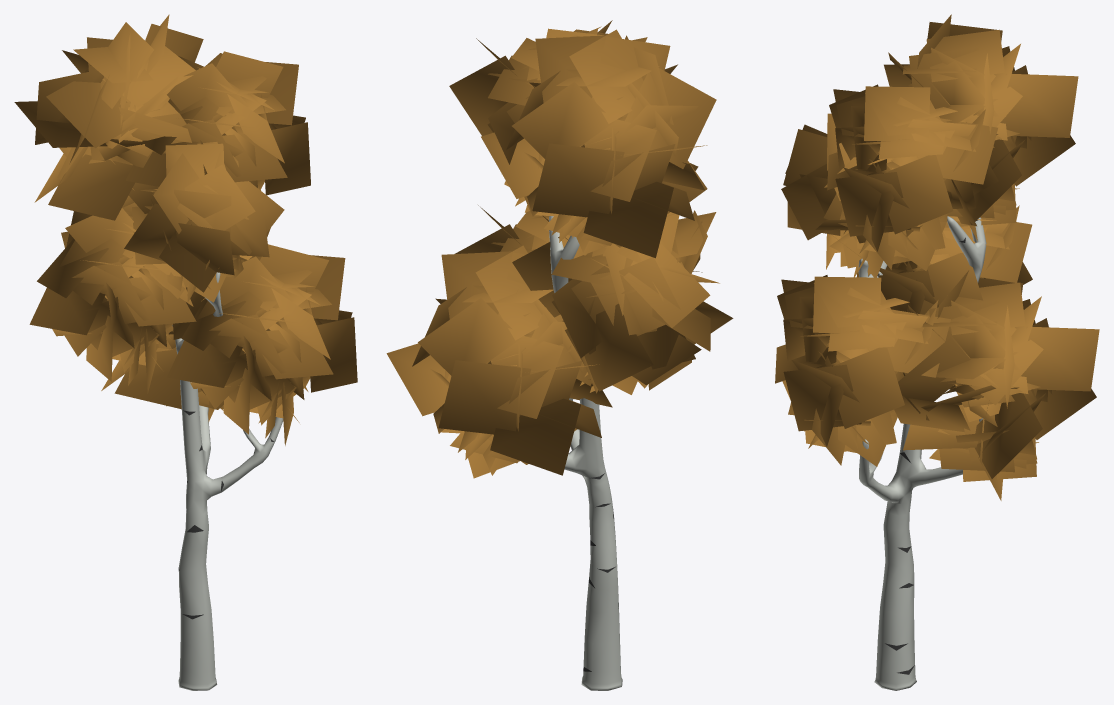
File: Birch_smooth.glb
3 views of the same model, side by side, from view 1: azimuth 30°, elevation 25°; view 2: azimuth 150°, elevation 25°; view 3: azimuth 270°, elevation 25° (orthographic). The views are drawn at different scales.
Parts seen in each view (by area): view 1: BushB001, BirchTree_Dead_3; view 2: BushB001, BirchTree_Dead_3; view 3: BushB001, BirchTree_Dead_3.
Boxes of the visible parts, left/top/right/bottom form: BushB001: left=14, top=14, right=357, bottom=445; BirchTree_Dead_3: left=172, top=272, right=283, bottom=690; BushB001: left=386, top=20, right=733, bottom=478; BirchTree_Dead_3: left=549, top=216, right=622, bottom=690; BushB001: left=775, top=14, right=1099, bottom=500; BirchTree_Dead_3: left=858, top=216, right=986, bottom=690.
Bounding box in the file's own units: 2.7 × 5.97 × 2.85.
